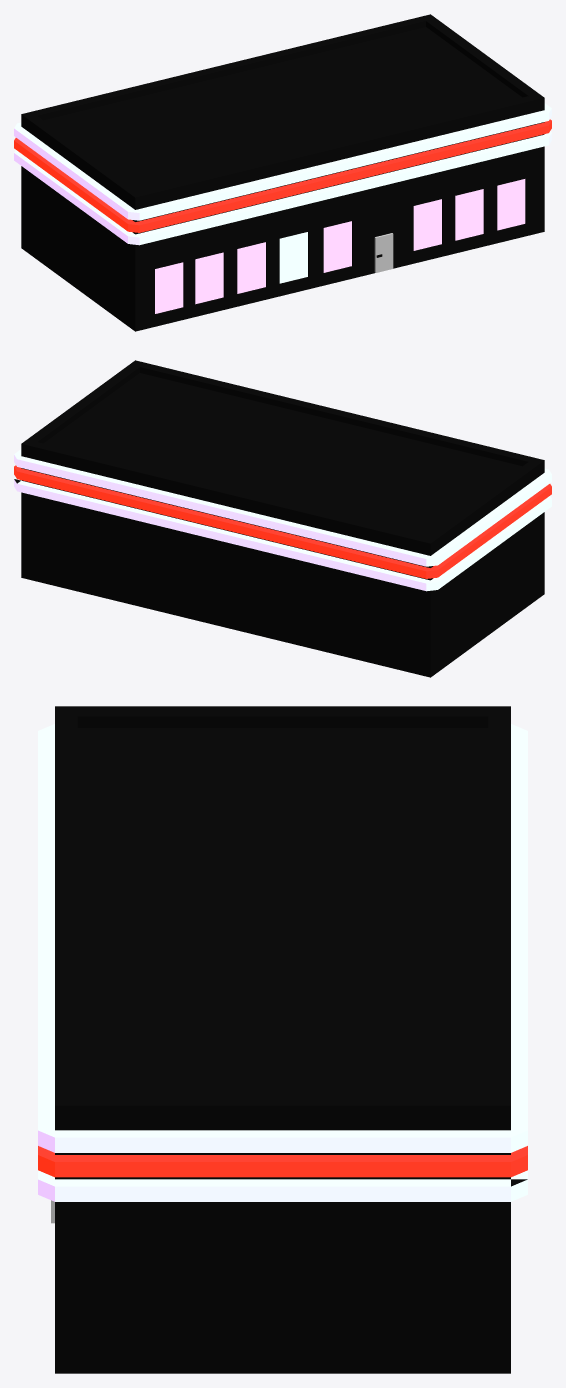
File: l1building3.fbx
The picture shows the model from 3 angles, top to bottom: view 1: azimuth 30°, elevation 25°; view 2: azimuth 150°, elevation 25°; view 3: azimuth 270°, elevation 25°; orthographic projection. The views are drawn at different scales.
Parts seen in each view (by area): view 1: Cube.044_LOD0; view 2: Cube.044_LOD0; view 3: Cube.044_LOD0.
Part boxes in pixels (bbox=[...]): Cube.044_LOD0: bbox=[14, 14, 551, 331]; Cube.044_LOD0: bbox=[14, 360, 551, 677]; Cube.044_LOD0: bbox=[38, 706, 527, 1373].
Size of what is drawn, in the model's own units: 28.99 by 8.75 by 14.5.
